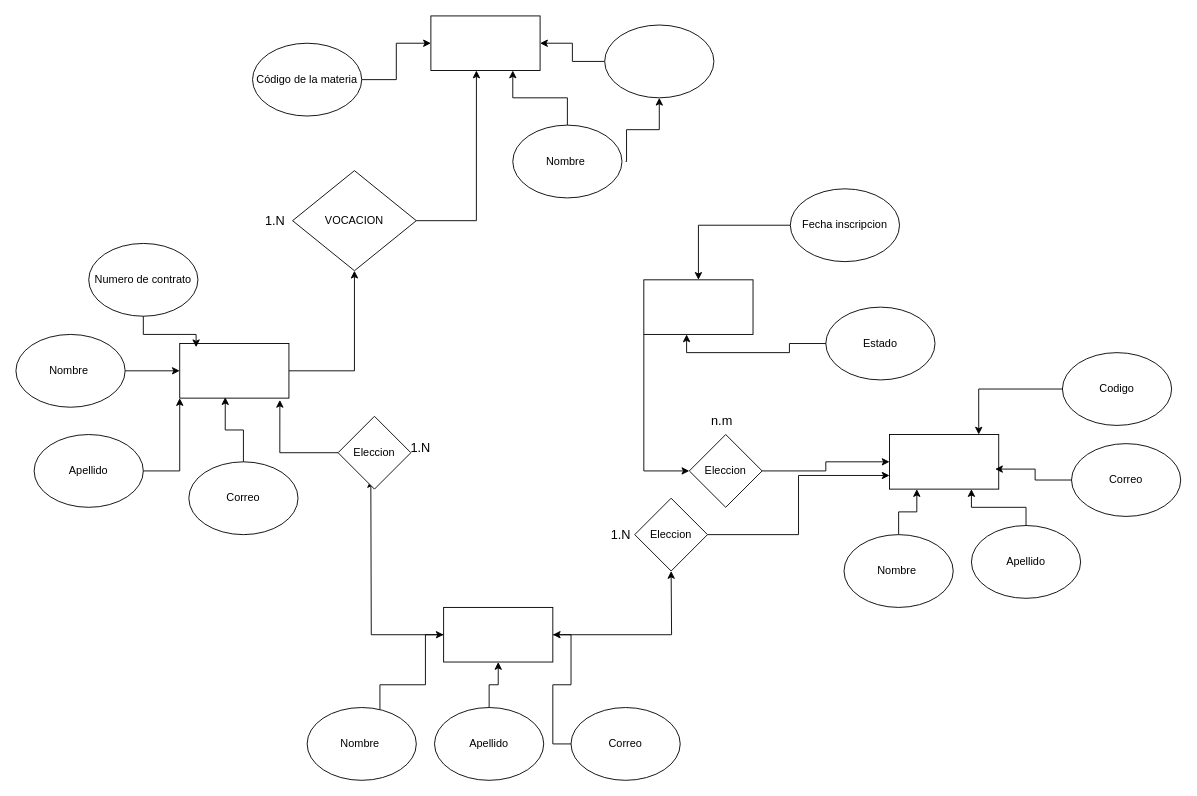
Image size: 1197x796. Some labels were removed from this diagram. Here are the shapes that lost their labels. From the top down, the box of each, then its label:
(430, 15, 540, 71): Materia
(604, 24, 714, 98): Creditos
(643, 279, 753, 334): Inscripción
(179, 343, 289, 398): Profesor
(889, 434, 999, 489): Estudiante
(443, 607, 553, 662): Persona
